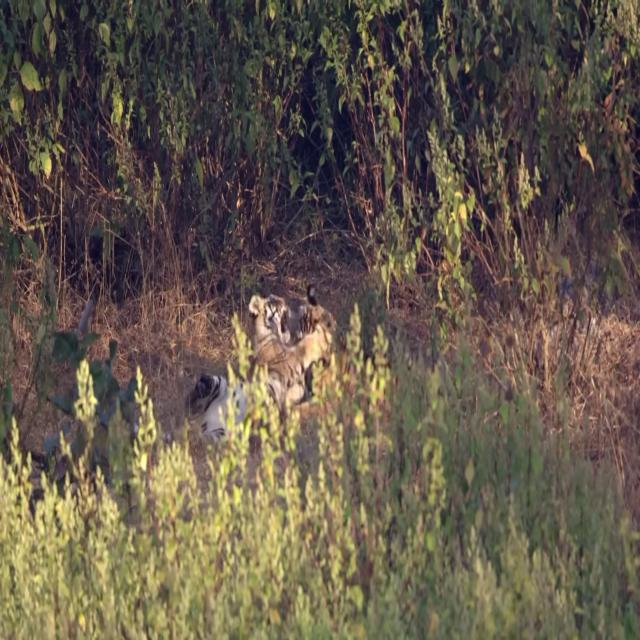tiger: (184, 292, 304, 442)
